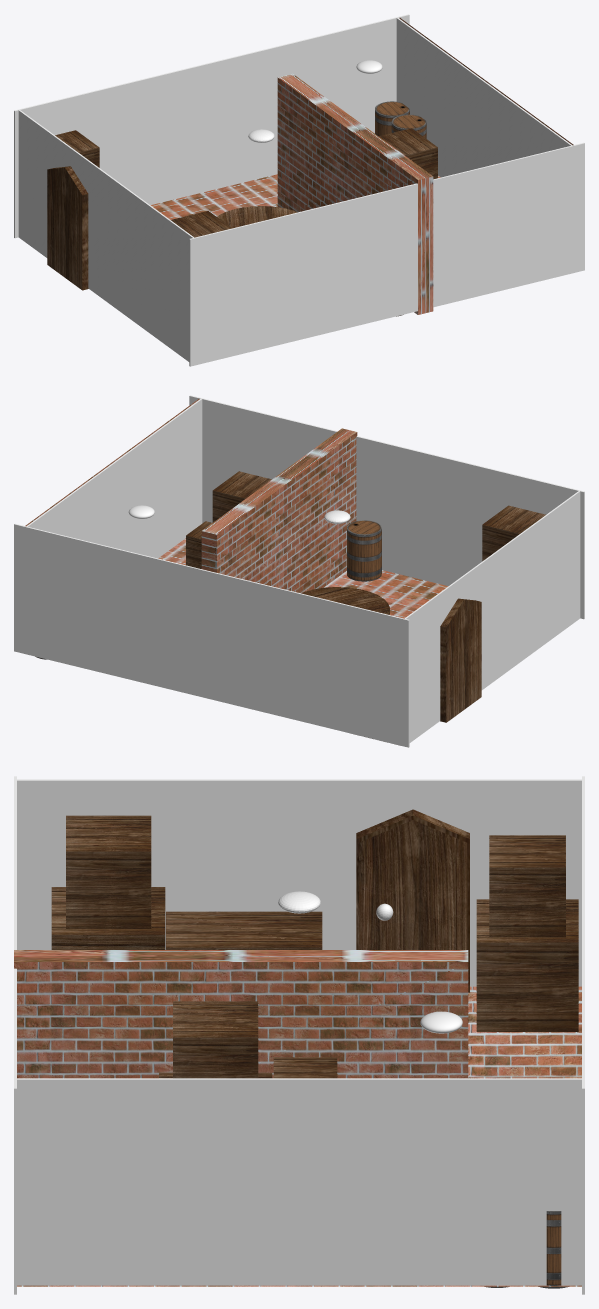
File: room1.gltf
The picture shows the model from 3 angles, top to bottom: view 1: azimuth 30°, elevation 25°; view 2: azimuth 150°, elevation 25°; view 3: azimuth 270°, elevation 25°; orthographic projection. The views are drawn at different scales.
Visible parts, largest first — view 1: Wall_Block_2, Wall_Block_1, Wall_Block_4, Wall, Wall_Block_3, Door, Room, BoxS1, Table, BoxS1.001, Barrel0, BoxS1.002 (+1 smaller); view 2: Wall_Block_1, Wall_Block_2, Wall_Block_4, Wall, Wall_Block_3, Door, Room, Barrel2, BoxS1.001, BoxS1, Table, BoxS0; view 3: Wall_Block_3, Wall_Block_4, Wall, Door, Box2.002, BoxS1.001, BoxS1.002, Room, BoxS1, Box2.001, Box2, Wall_Block_1 (+5 smaller).
Part boxes in pixels (x1,y1,x2,y2): Wall_Block_2: [189, 142, 584, 366]; Wall_Block_1: [14, 14, 409, 238]; Wall_Block_4: [18, 109, 194, 361]; Wall: [277, 73, 433, 314]; Wall_Block_3: [396, 17, 572, 177]; Door: [47, 166, 88, 290]; Room: [151, 18, 573, 219]; BoxS1: [379, 128, 437, 179]; Table: [217, 206, 297, 228]; BoxS1.001: [171, 211, 231, 237]; Barrel0: [375, 101, 409, 136]; BoxS1.002: [55, 130, 99, 167]; Wall_Block_1: [14, 523, 409, 747]; Wall_Block_2: [189, 395, 584, 619]; Wall_Block_4: [404, 490, 580, 742]; Wall: [201, 428, 357, 593]; Wall_Block_3: [26, 398, 202, 558]; Door: [440, 598, 481, 722]; Room: [25, 399, 447, 618]; Barrel2: [347, 520, 381, 581]; BoxS1.001: [482, 505, 545, 561]; BoxS1: [212, 471, 271, 522]; Table: [301, 587, 389, 614]; BoxS0: [186, 521, 212, 568]; Wall_Block_3: [15, 1078, 582, 1285]; Wall_Block_4: [15, 779, 583, 986]; Wall: [14, 950, 468, 1078]; Door: [356, 809, 469, 992]; Box2.002: [476, 899, 578, 1031]; BoxS1.001: [66, 815, 151, 928]; BoxS1.002: [489, 835, 565, 937]; Room: [17, 986, 581, 1286]; BoxS1: [173, 1001, 258, 1078]; Box2.001: [166, 911, 322, 949]; Box2: [51, 887, 165, 949]; Wall_Block_1: [582, 776, 584, 1294].
Bounding box in the file's own units: 26.14 × 8.5 × 20.1.
